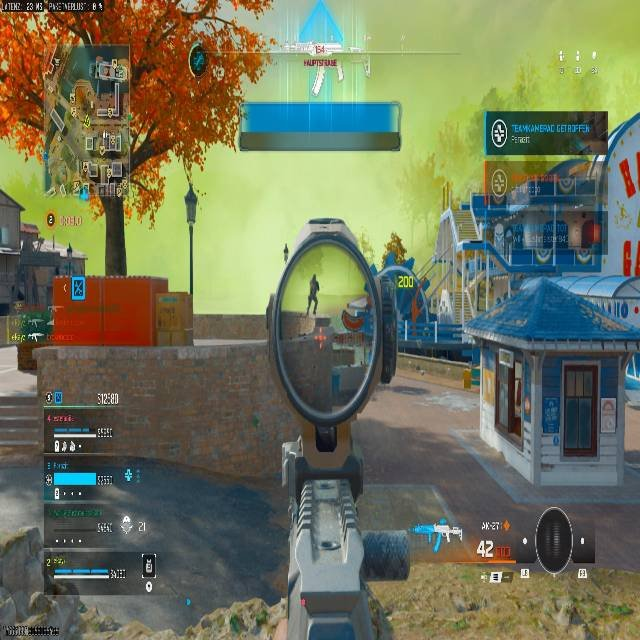head: (311, 274, 317, 281)
player: (380, 233, 414, 275), (307, 274, 320, 315)
